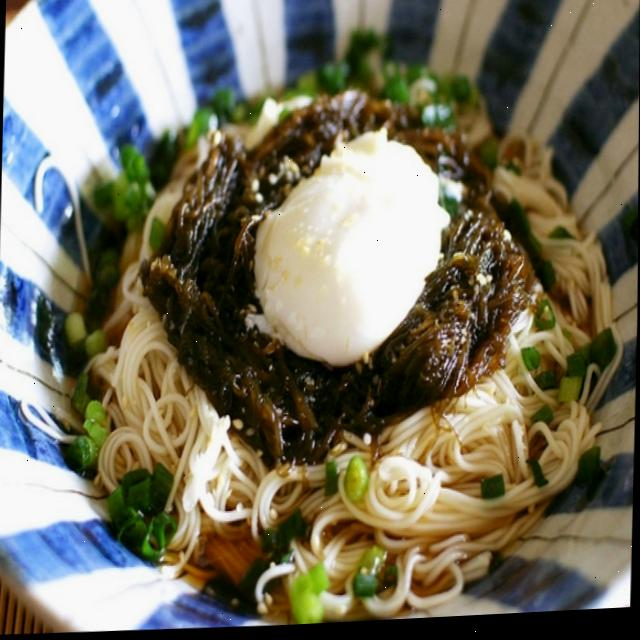面条主食: (0, 0, 640, 627)
